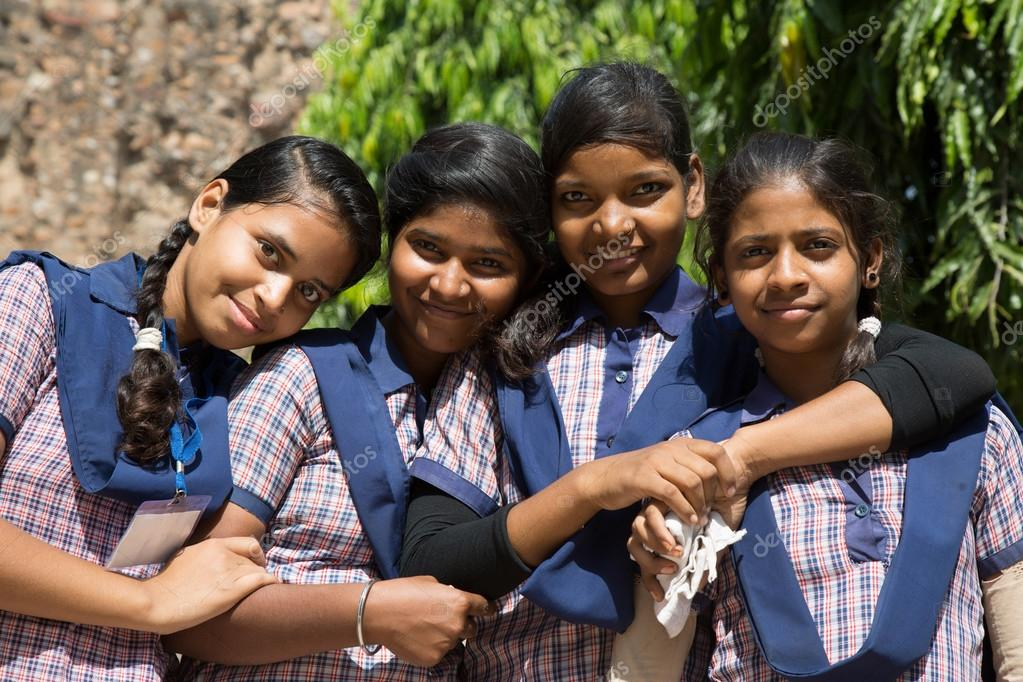person: (189, 173, 375, 346), (723, 182, 862, 362), (547, 144, 692, 297), (385, 187, 513, 350)
